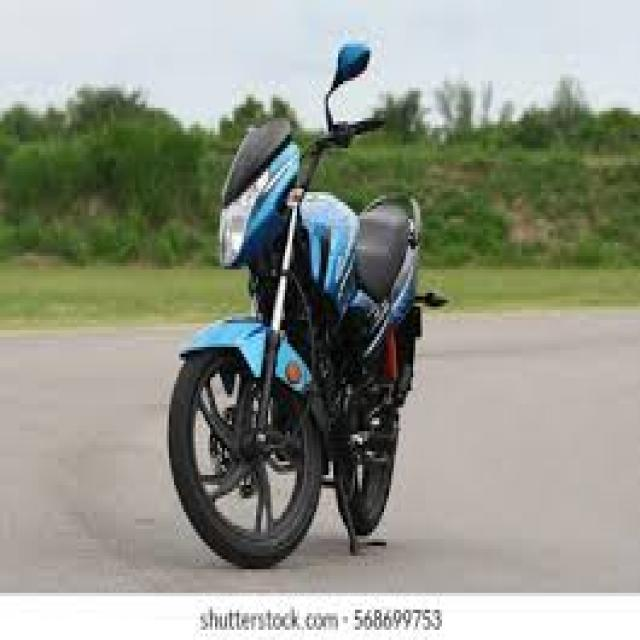Bike: (167, 40, 449, 571)
